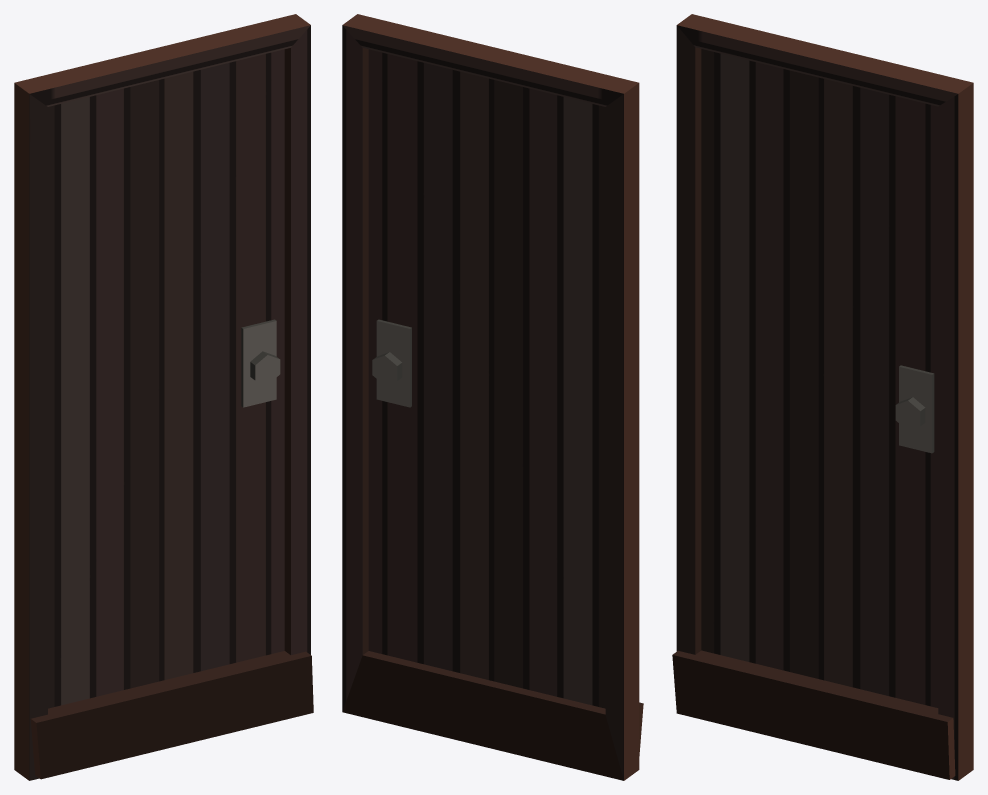
The model's file is Door 1.glb.
3 renders of one model, left to right at view 1: azimuth 30°, elevation 25°; view 2: azimuth 150°, elevation 25°; view 3: azimuth 330°, elevation 25°, orthographic.
Visible parts, largest first — view 1: Door 1A; view 2: Door 1A; view 3: Door 1A.
Part boxes in pixels (box(x1,y1,x2,y2)): Door 1A: box(14, 14, 313, 780); Door 1A: box(342, 14, 643, 780); Door 1A: box(672, 14, 973, 780).
Size of what is drawn, in the model's own units: 0.9761 by 2.27 by 0.1524.
2 materials, 2 textured.
